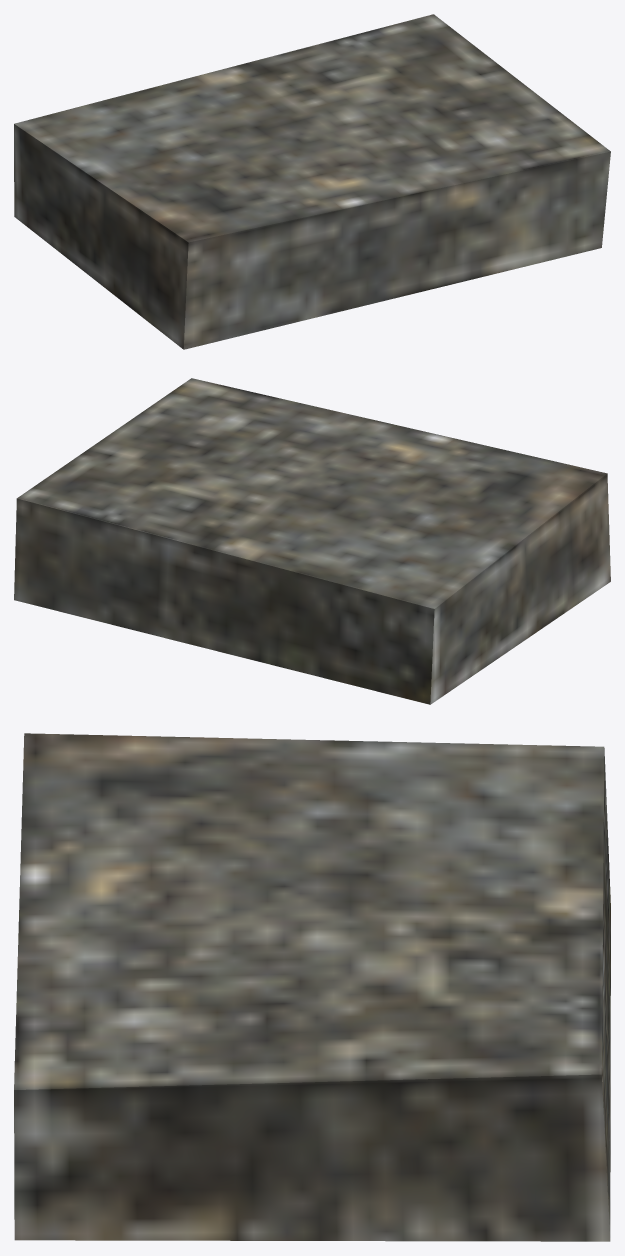
The model's file is Brick2B_LOD1.fbx.
3 renders of one model, top to bottom at view 1: azimuth 30°, elevation 25°; view 2: azimuth 150°, elevation 25°; view 3: azimuth 270°, elevation 25°, orthographic. The views are drawn at different scales.
Visible parts, largest first — view 1: polySurface61; view 2: polySurface61; view 3: polySurface61.
Part boxes in pixels (x1=…): polySurface61: x1=14, y1=14, x2=610, y2=349; polySurface61: x1=14, y1=378, x2=610, y2=704; polySurface61: x1=14, y1=733, x2=610, y2=1241.
Bounding box in the file's own units: 1.63 × 0.3941 × 1.2.
